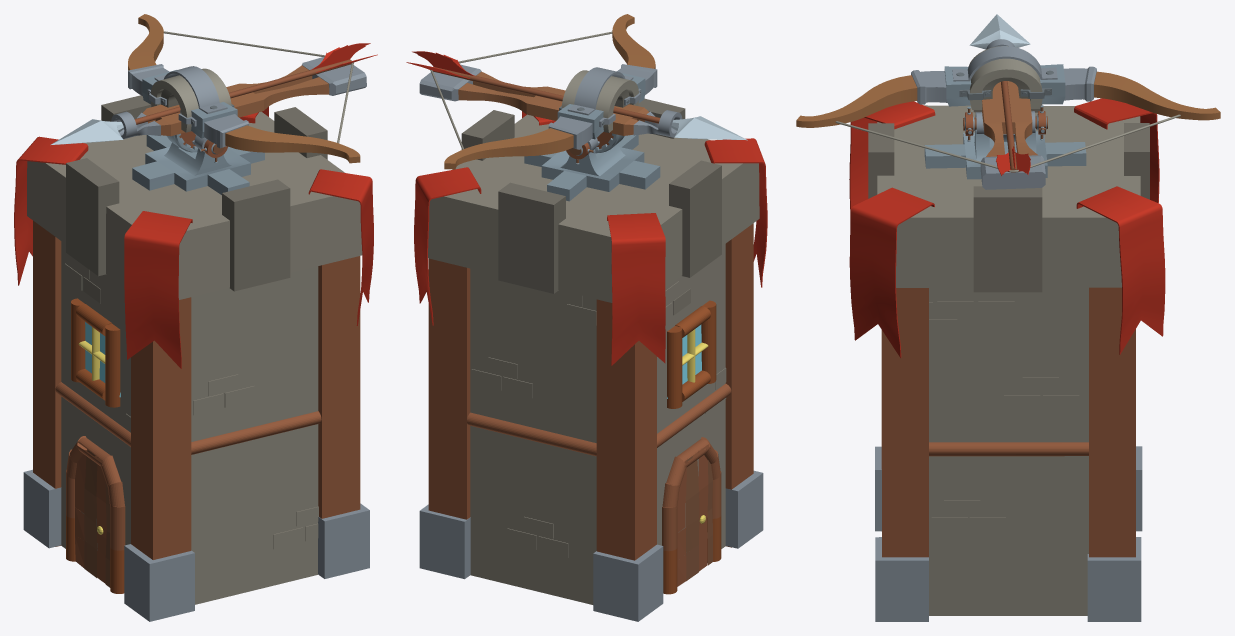
The model's file is ArcherTower-lvl2.fbx.
3 renders of one model, left to right at view 1: azimuth 30°, elevation 25°; view 2: azimuth 150°, elevation 25°; view 3: azimuth 270°, elevation 25°, orthographic. The views are drawn at different scales.
Parts seen in each view (by area): view 1: Cylinder.010_metall-2_0.005, Cylinder.010_metall-2_0.004, Cylinder.010_metall-2_0.003, Cube.002_wood-2-2_0.001, Cylinder.010_metall-2_0.023, Cylinder.010_metall-2_0.034, Cube.001_metall-2_0.001, Cylinder.010_metall-2_0.031, Cylinder.010_metall-2_0.028, Cylinder.010_metall-2_0.006, Cylinder.010_metall-2_0.029, Cylinder.010_metall-2_0.024 (+9 smaller); view 2: Cylinder.010_metall-2_0.005, Cylinder.010_metall-2_0.004, Cylinder.010_metall-2_0.003, Cube.002_wood-2-2_0.001, Cylinder.010_metall-2_0.024, Cylinder.010_metall-2_0.032, Cube.001_metall-2_0.001, Cylinder.010_metall-2_0.031, Cylinder.010_metall-2_0.027, Cylinder.010_metall-2_0.006, Cylinder.010_metall-2_0.030, Cylinder.010_metall-2_0.025 (+9 smaller); view 3: Cylinder.010_metall-2_0.005, Cylinder.010_metall-2_0.003, Cylinder.010_metall-2_0.004, Cube.002_wood-2-2_0.001, Cylinder.010_metall-2_0.033, Cylinder.010_metall-2_0.026, Cylinder.010_metall-2_0.025, Cylinder.010_metall-2_0.030, Cylinder.010_metall-2_0.029, Cube.001_metall-2_0.001, Cylinder.010_metall-2_0.023, Cylinder.010_metall-2_0.024 (+5 smaller).
Part boxes in pixels (x1,y1,x2,y2): Cylinder.010_metall-2_0.005: (61,241,318,604); Cylinder.010_metall-2_0.004: (33,220,360,559); Cylinder.010_metall-2_0.003: (27,111,362,549); Cube.002_wood-2-2_0.001: (111,14,366,163); Cylinder.010_metall-2_0.023: (124,211,192,368); Cylinder.010_metall-2_0.034: (222,179,290,291); Cube.001_metall-2_0.001: (132,134,264,194); Cylinder.010_metall-2_0.031: (66,158,119,276); Cylinder.010_metall-2_0.028: (124,544,194,621); Cylinder.010_metall-2_0.006: (66,298,124,593); Cylinder.010_metall-2_0.029: (318,503,369,578); Cylinder.010_metall-2_0.024: (14,136,88,285); Cylinder.010_metall-2_0.005: (470,244,725,604); Cylinder.010_metall-2_0.004: (428,223,753,560); Cylinder.010_metall-2_0.003: (428,114,759,557); Cube.002_wood-2-2_0.001: (419,14,682,169); Cylinder.010_metall-2_0.024: (607,213,665,365); Cylinder.010_metall-2_0.032: (498,182,565,293); Cube.001_metall-2_0.001: (524,134,660,201); Cylinder.010_metall-2_0.031: (669,160,721,277); Cylinder.010_metall-2_0.027: (593,544,663,621); Cylinder.010_metall-2_0.006: (663,300,721,594); Cylinder.010_metall-2_0.030: (419,504,470,579); Cylinder.010_metall-2_0.025: (414,167,481,325); Cylinder.010_metall-2_0.005: (929,287,1088,615); Cylinder.010_metall-2_0.003: (877,105,1140,532); Cylinder.010_metall-2_0.004: (881,287,1135,557); Cube.002_wood-2-2_0.001: (796,39,1220,189); Cylinder.010_metall-2_0.033: (973,186,1042,292); Cylinder.010_metall-2_0.026: (849,187,934,358); Cylinder.010_metall-2_0.025: (1076,186,1165,354); Cylinder.010_metall-2_0.030: (1087,537,1141,621); Cylinder.010_metall-2_0.029: (875,537,928,621); Cube.001_metall-2_0.001: (924,128,1086,179); Cylinder.010_metall-2_0.023: (849,101,935,210); Cylinder.010_metall-2_0.024: (1074,98,1159,202).
Size of the model in its own units: 785 by 1093 by 823.
